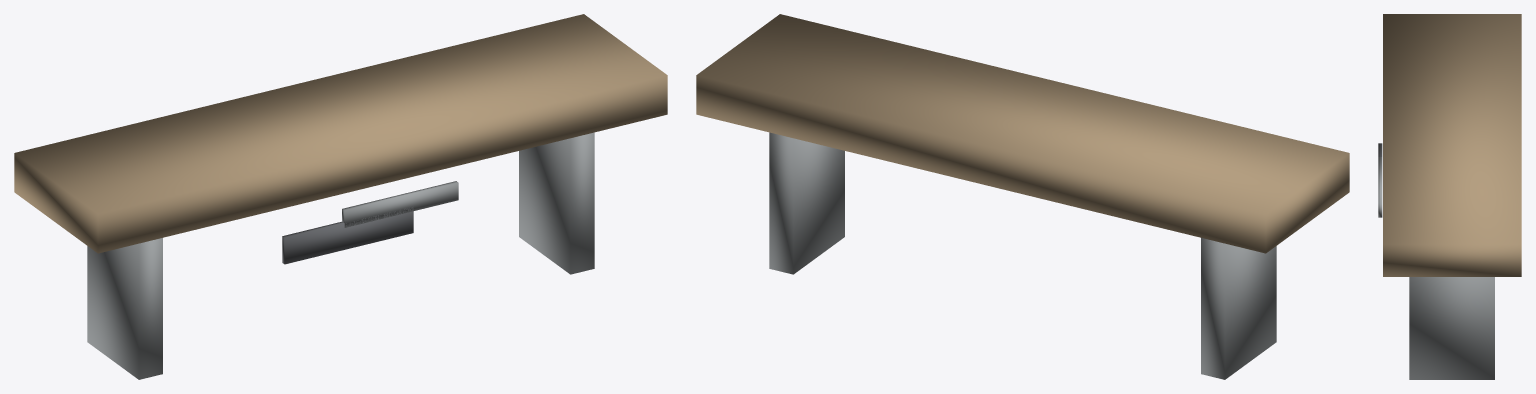
The model's file is gallery_bench__weathered.glb.
The picture shows the model from 3 angles, left to right: view 1: azimuth 30°, elevation 25°; view 2: azimuth 150°, elevation 25°; view 3: azimuth 270°, elevation 25°; orthographic projection. The views are drawn at different scales.
Visible parts, largest first — view 1: world; view 2: world; view 3: world.
Boxes of the visible parts, x1,y1,x2,y2 form: world: [14, 14, 667, 379]; world: [696, 14, 1349, 379]; world: [1378, 14, 1521, 379].
Size of the model in its own units: 1.65 by 0.5297 by 0.434.
